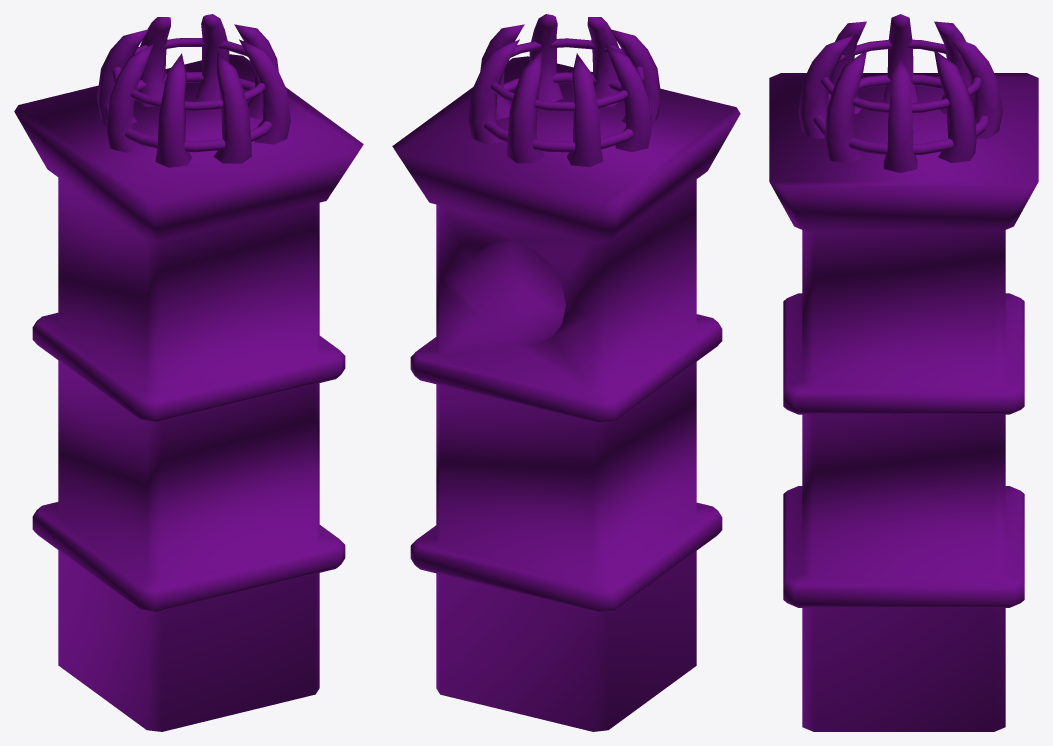
File: R4YL_PROP_column_phase2.FBX
3 renders of one model, left to right at view 1: azimuth 30°, elevation 25°; view 2: azimuth 150°, elevation 25°; view 3: azimuth 270°, elevation 25°, orthographic. The views are drawn at different scales.
Parts seen in each view (by area): view 1: R4YL_PROP_column_phase2; view 2: R4YL_PROP_column_phase2; view 3: R4YL_PROP_column_phase2.
Boxes of the visible parts, x1,y1,x2,y2 form: R4YL_PROP_column_phase2: [14, 14, 363, 731]; R4YL_PROP_column_phase2: [392, 14, 740, 731]; R4YL_PROP_column_phase2: [769, 14, 1038, 731].
Size of the model in its own units: 260 by 699 by 260.
